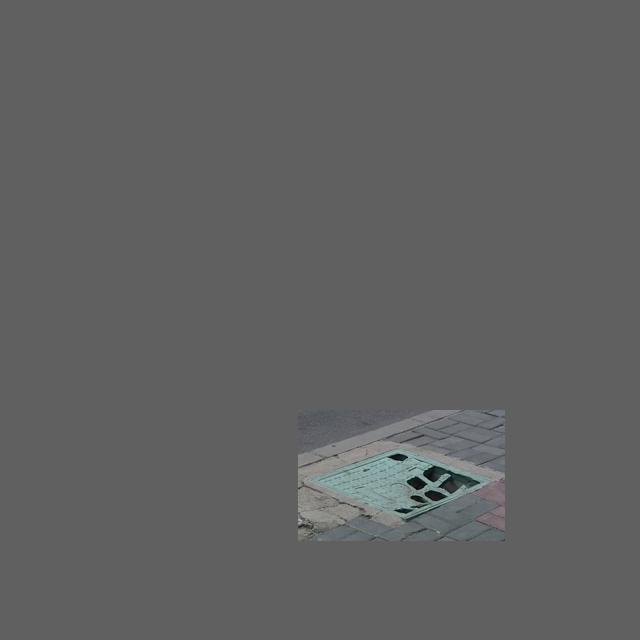broke: (308, 442, 492, 523)
